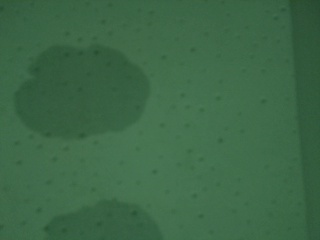Water_detected: (30, 50, 132, 129), (58, 202, 151, 240)
